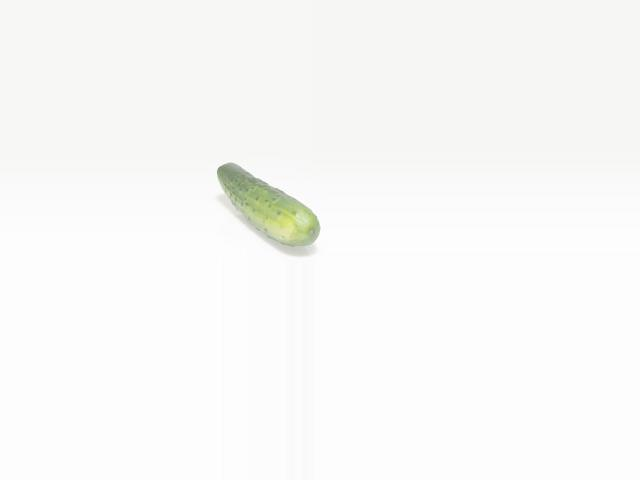cucumber: (216, 163, 319, 245)
